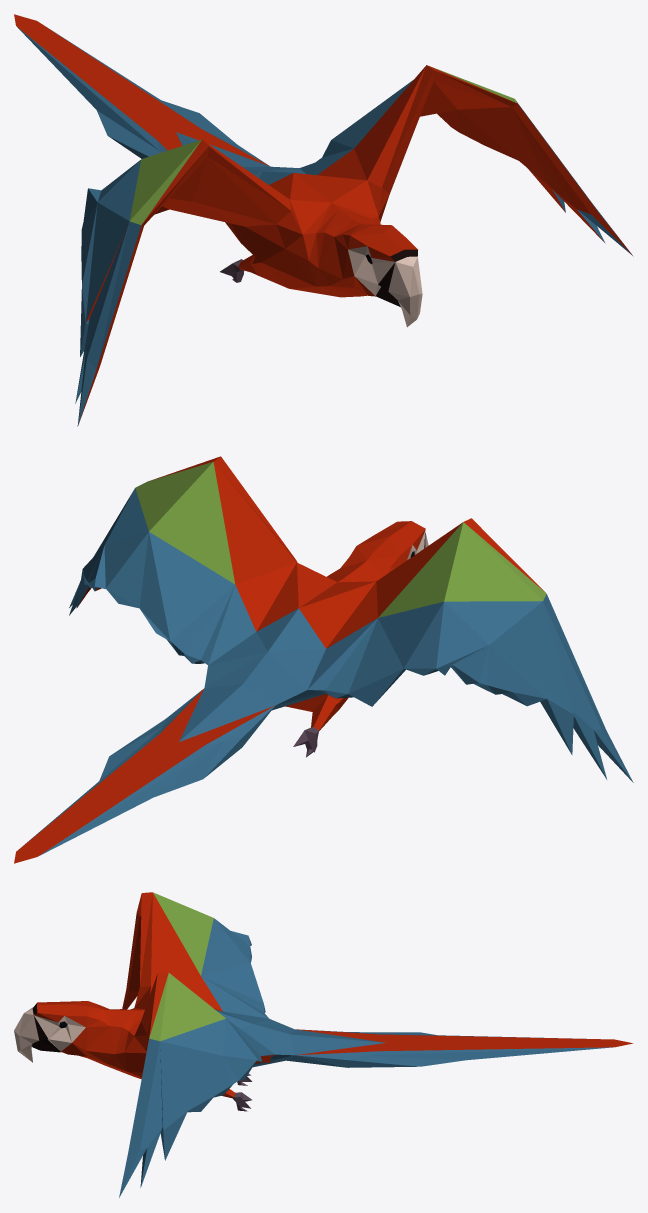
The model's file is Parrot.gltf.
3 views of the same model, one above another, from view 1: azimuth 30°, elevation 25°; view 2: azimuth 150°, elevation 25°; view 3: azimuth 270°, elevation 25° (orthographic). The views are drawn at different scales.
Visible parts, largest first — view 1: Object_0; view 2: Object_0; view 3: Object_0.
Part boxes in pixels (left/top/right/bottom): Object_0: left=14, top=14, right=633, bottom=426; Object_0: left=14, top=456, right=633, bottom=863; Object_0: left=14, top=892, right=633, bottom=1197.
Size of the model in its own units: 2.38 by 1.01 by 3.01.
